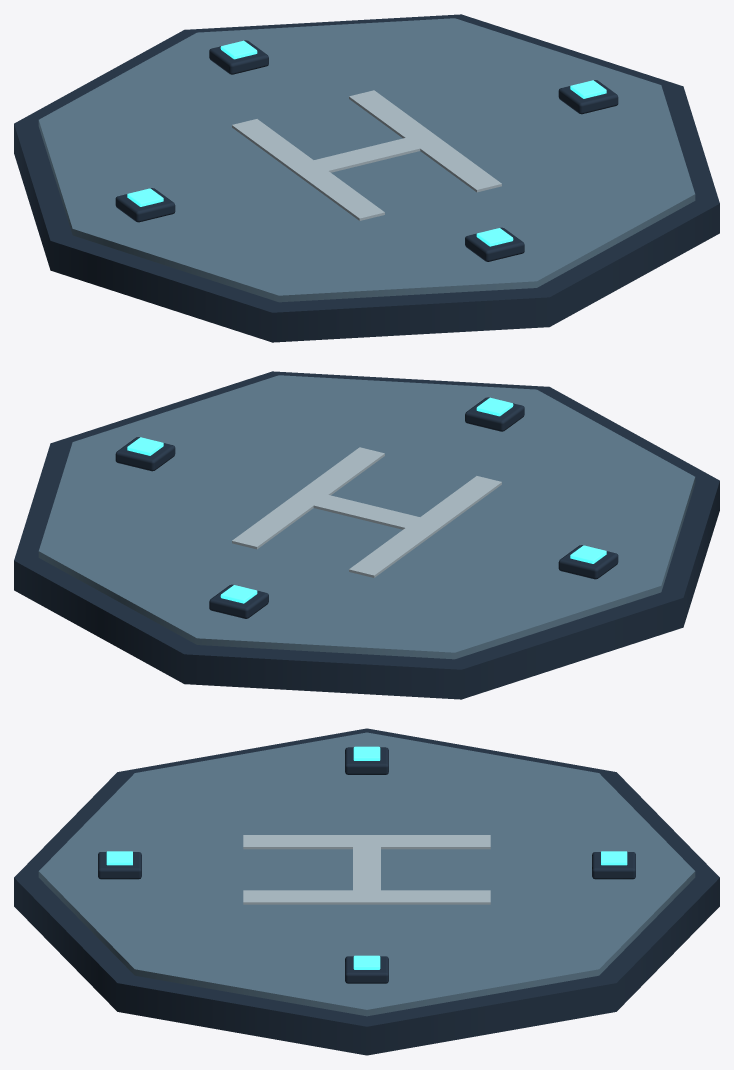
File: landing-pad.glb
3 views of the same model, one above another, from view 1: azimuth 30°, elevation 25°; view 2: azimuth 150°, elevation 25°; view 3: azimuth 270°, elevation 25° (orthographic). The views are drawn at different scales.
Visible parts, largest first — view 1: deck, platform, H-leg--0.37, H-leg-0.37, H-bar, lamp-base--1.4-0, lamp-base-1.4-0, lamp-base-0-1.4, lamp-base-0--1.4; view 2: deck, platform, H-leg--0.37, H-leg-0.37, H-bar, lamp-base--1.4-0, lamp-base-1.4-0, lamp-base-0--1.4, lamp-base-0-1.4; view 3: deck, platform, H-leg-0.37, H-leg--0.37, H-bar, lamp-base-0--1.4, lamp-base-0-1.4, lamp-base-1.4-0, lamp-base--1.4-0.
Boxes of the visible parts, box(x1,y1,x2,y2) form: deck: box(38, 18, 695, 302); platform: box(14, 14, 719, 342); H-leg--0.37: box(232, 119, 384, 220); H-leg-0.37: box(349, 90, 501, 192); H-bar: box(288, 131, 444, 179); lamp-base--1.4-0: box(115, 188, 175, 222); lamp-base-1.4-0: box(558, 80, 618, 114); lamp-base-0-1.4: box(465, 227, 524, 261); lamp-base-0--1.4: box(209, 40, 268, 74); deck: box(38, 375, 695, 659); platform: box(14, 371, 719, 699); H-leg--0.37: box(349, 476, 501, 577); H-leg-0.37: box(232, 447, 384, 549); H-bar: box(289, 488, 445, 534); lamp-base--1.4-0: box(558, 545, 618, 579); lamp-base-1.4-0: box(115, 437, 175, 471); lamp-base-0--1.4: box(209, 584, 268, 618); lamp-base-0-1.4: box(465, 397, 524, 431); deck: box(38, 732, 695, 1016); platform: box(14, 728, 719, 1055); H-leg-0.37: box(243, 890, 490, 904); H-leg--0.37: box(243, 835, 490, 849); H-bar: box(353, 835, 380, 904); lamp-base-0--1.4: box(592, 852, 635, 879); lamp-base-0-1.4: box(98, 852, 141, 879); lamp-base-1.4-0: box(345, 956, 388, 983); lamp-base--1.4-0: box(345, 747, 388, 774).
Size of the model in its own units: 4 by 0.3125 by 4.
